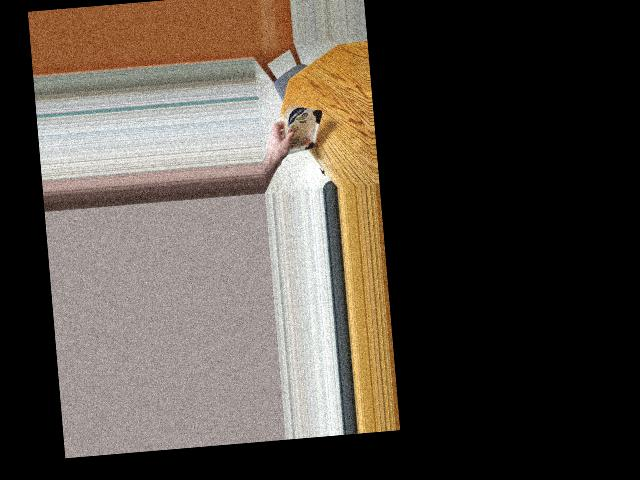cheese: (282, 102, 321, 156)
